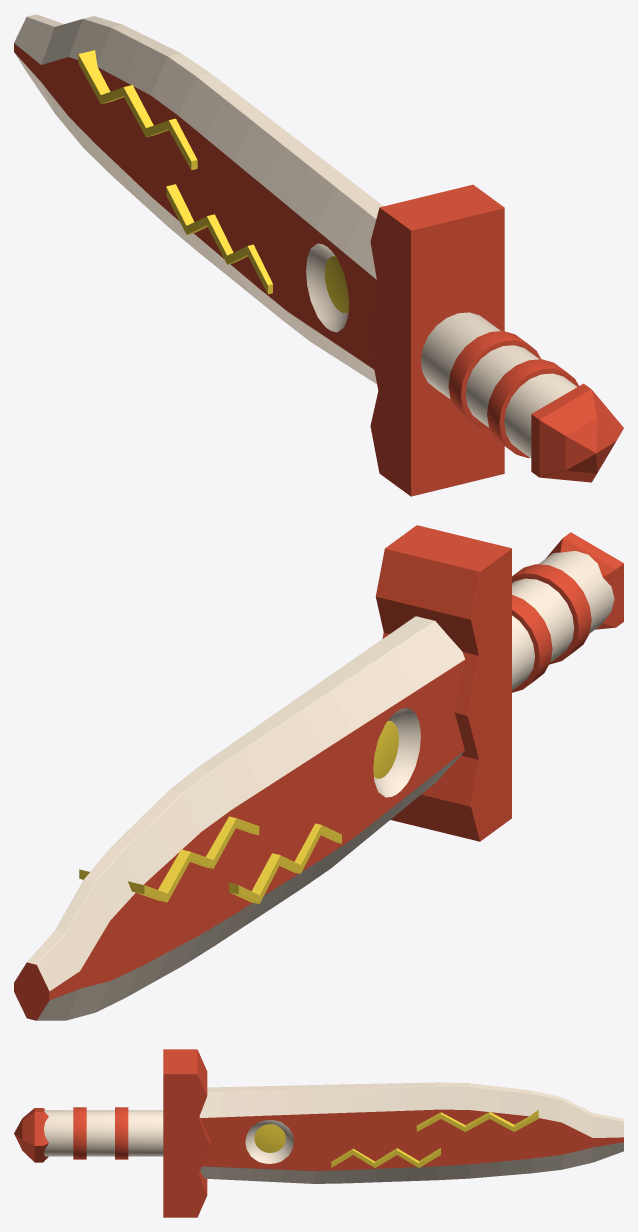
File: Sword_CalderaBroadsword.glb
3 views of the same model, one above another, from view 1: azimuth 30°, elevation 25°; view 2: azimuth 150°, elevation 25°; view 3: azimuth 270°, elevation 25° (orthographic). The views are drawn at different scales.
Visible parts, largest first — view 1: Sword_CalderaBroadsword; view 2: Sword_CalderaBroadsword; view 3: Sword_CalderaBroadsword.
Boxes of the visible parts, box(x1,y1,x2,y2) form: Sword_CalderaBroadsword: box(14, 14, 623, 496); Sword_CalderaBroadsword: box(14, 525, 623, 1020); Sword_CalderaBroadsword: box(14, 1049, 623, 1217).
Size of the model in its own units: 0.096 by 0.26 by 1.
1 material, 1 textured.
